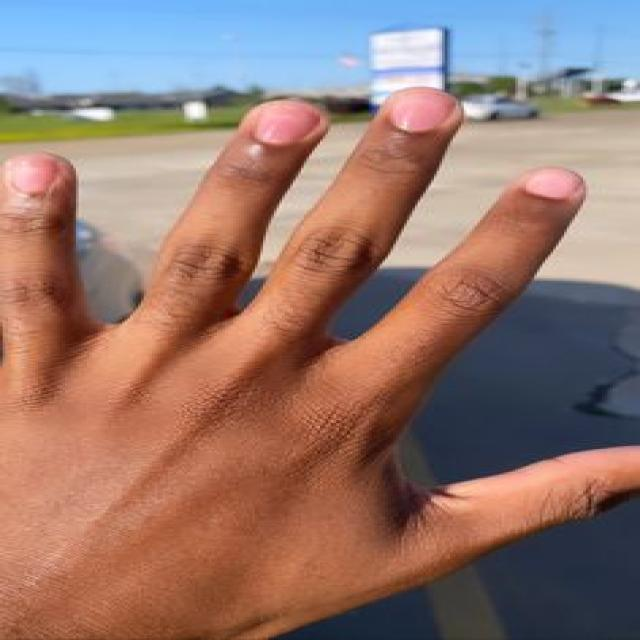Fingernail: (254, 104, 321, 144), (391, 94, 455, 133), (11, 157, 58, 193), (526, 169, 581, 198)
